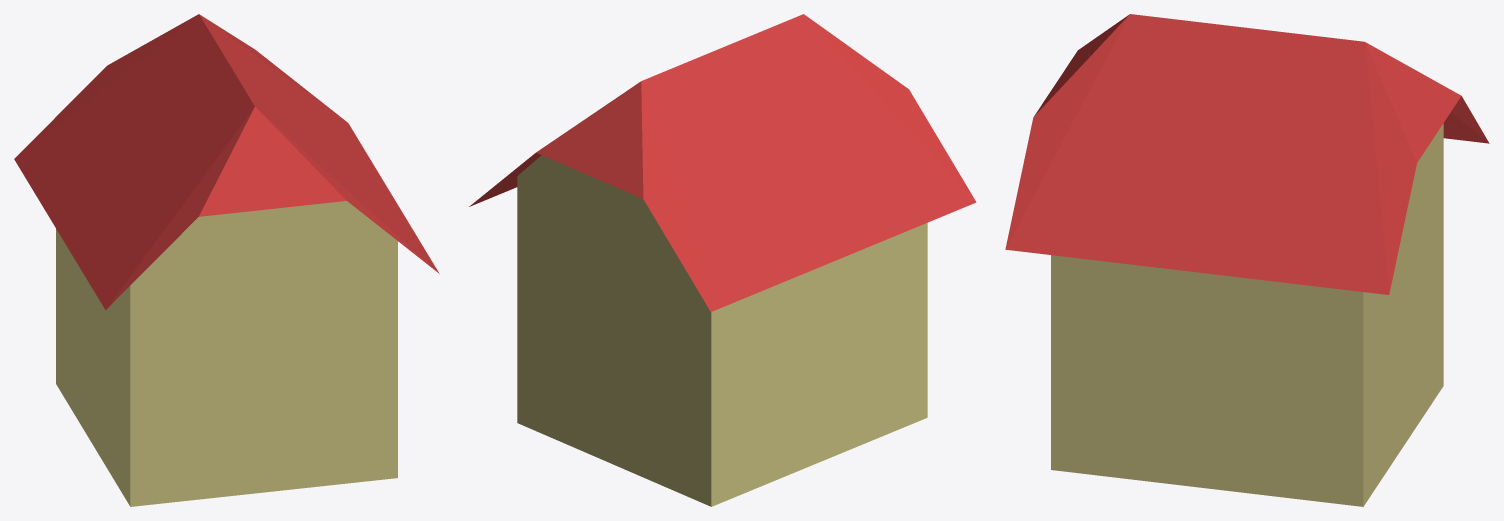
3 views of the same model, side by side, from view 1: azimuth 30°, elevation 25°; view 2: azimuth 150°, elevation 25°; view 3: azimuth 270°, elevation 25° (orthographic). The views are drawn at different scales.
Visible parts, largest first — view 1: group_5, group_3, group_4; view 2: group_5, group_3, group_4; view 3: group_5, group_3, group_4.
Part boxes in pixels (bbox=[...]): group_5: bbox=[56, 201, 397, 506]; group_3: bbox=[14, 14, 397, 309]; group_4: bbox=[15, 51, 439, 309]; group_5: bbox=[517, 155, 927, 506]; group_3: bbox=[469, 14, 970, 311]; group_4: bbox=[469, 87, 976, 311]; group_5: bbox=[1051, 123, 1443, 506]; group_3: bbox=[1006, 14, 1489, 294]; group_4: bbox=[1005, 44, 1488, 294].
Bounding box in the file's own units: 12.54 × 13.03 × 11.88.
